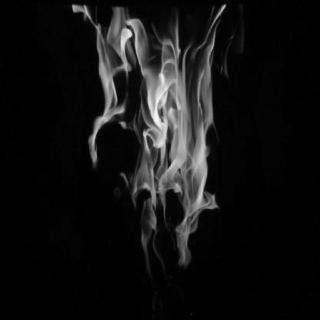Fire: (61, 2, 243, 276)
